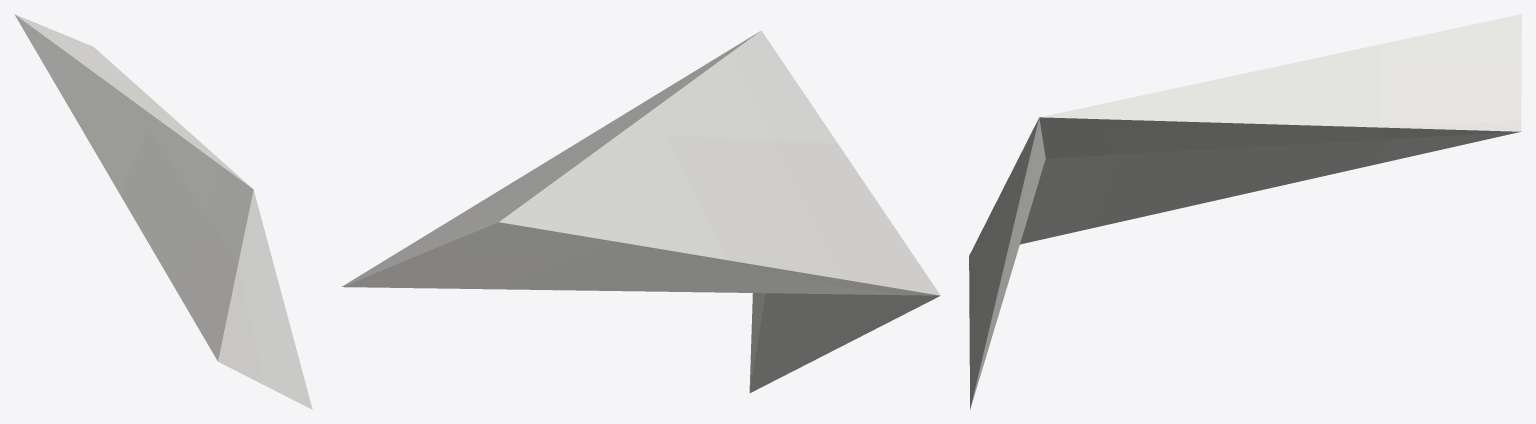
Rendered from pj-161-geode.glb.
3 renders of one model, left to right at view 1: azimuth 30°, elevation 25°; view 2: azimuth 150°, elevation 25°; view 3: azimuth 270°, elevation 25°, orthographic. The views are drawn at different scales.
Parts seen in each view (by area): view 1: Node; view 2: Node; view 3: Node.
Boxes of the visible parts, x1,y1,x2,y2 form: Node: (14, 14, 312, 409); Node: (342, 30, 940, 392); Node: (969, 14, 1521, 409).
Size of the model in its own units: 0.055 by 0.1445 by 0.2123.
1 material, 1 textured.
